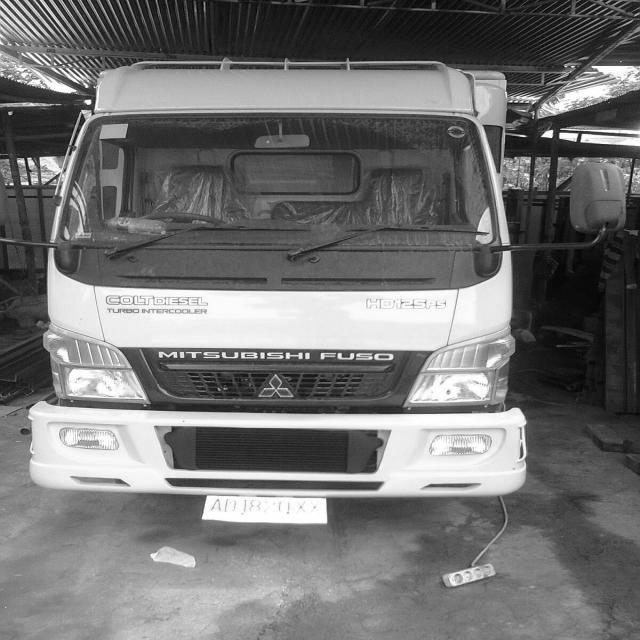truck: (21, 63, 571, 510)
